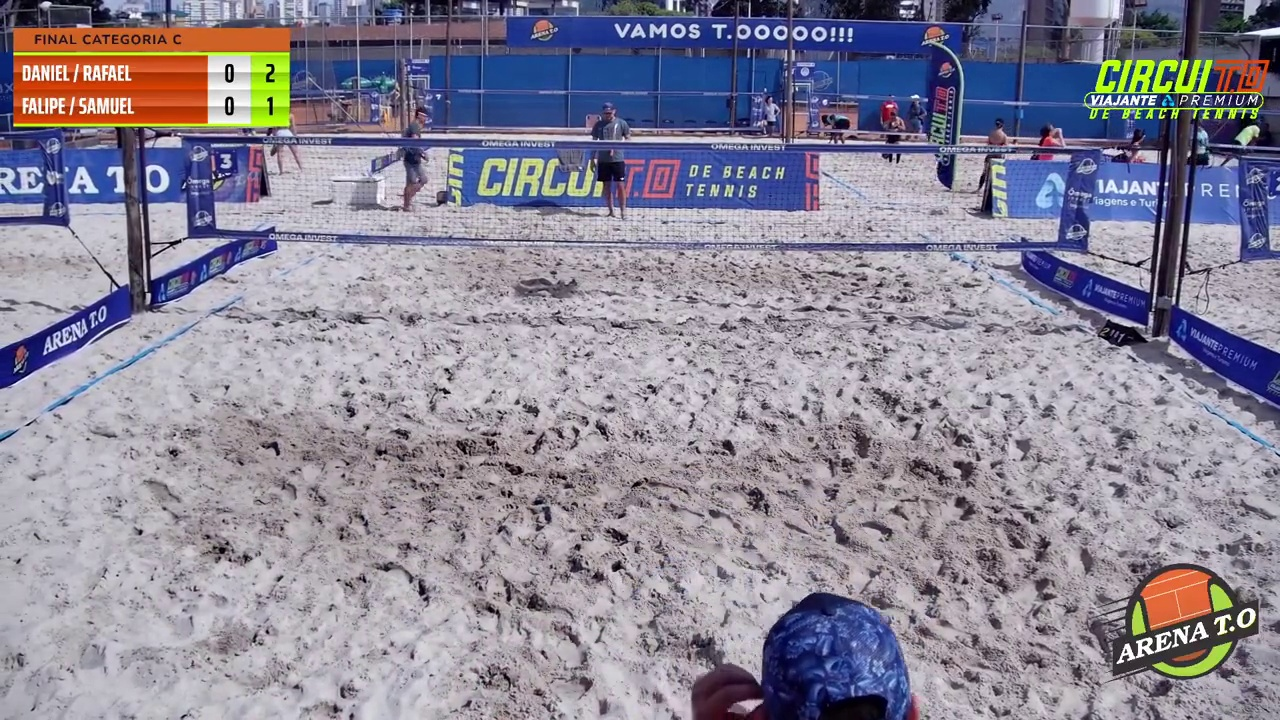court_line: (641, 0, 801, 324)
